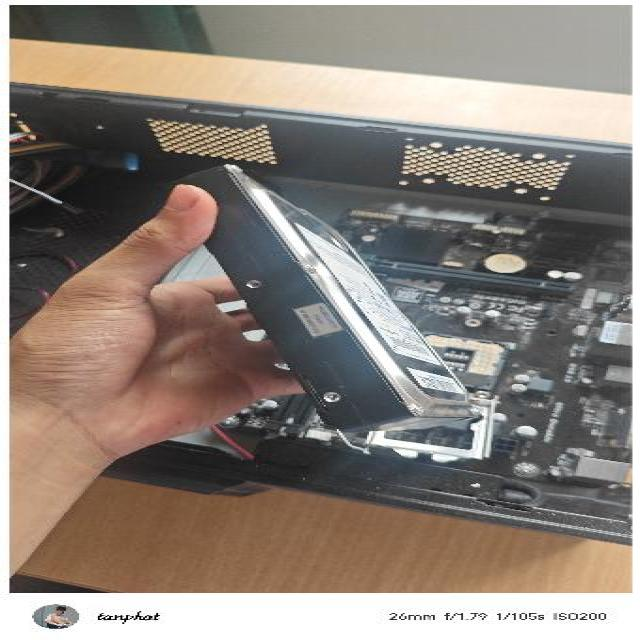DISK: (156, 160, 489, 436)
